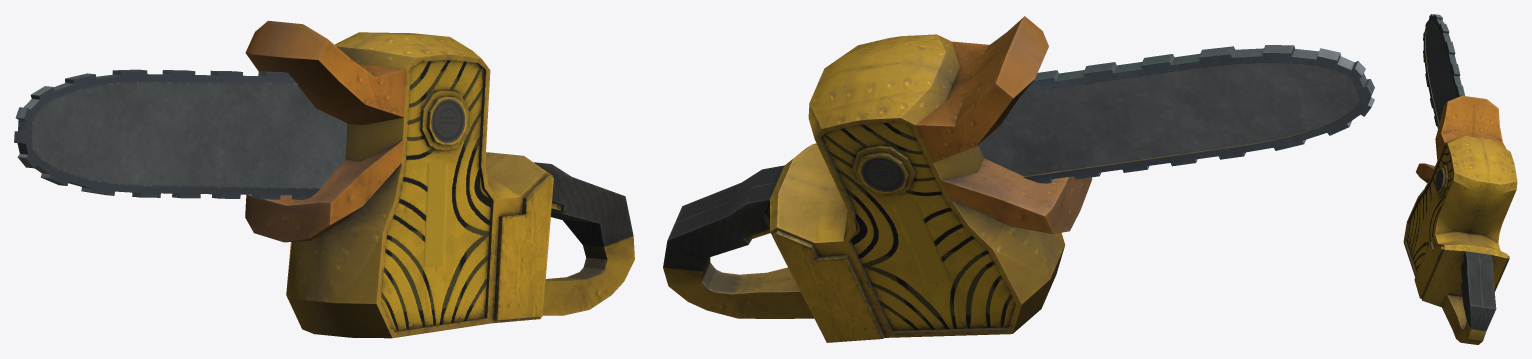
The model's file is ducksaw.glb.
3 views of the same model, side by side, from view 1: azimuth 30°, elevation 25°; view 2: azimuth 150°, elevation 25°; view 3: azimuth 270°, elevation 25° (orthographic). The views are drawn at different scales.
Visible parts, largest first — view 1: Ducksaw, Saw, Teeth; view 2: Ducksaw, Saw, Teeth; view 3: Ducksaw, Saw, Teeth.
Boxes of the visible parts, bbox=[...] form: Ducksaw: bbox=[245, 20, 634, 338]; Saw: bbox=[32, 83, 347, 188]; Teeth: bbox=[14, 69, 320, 199]; Ducksaw: bbox=[663, 16, 1092, 342]; Saw: bbox=[978, 62, 1359, 176]; Teeth: bbox=[1023, 45, 1374, 183]; Ducksaw: bbox=[1403, 95, 1517, 344]; Saw: bbox=[1425, 20, 1456, 123]; Teeth: bbox=[1423, 14, 1464, 128].
Size of the model in its own units: 20.3 by 11.16 by 6.08.
Materials: 1 (1 with a texture image).
